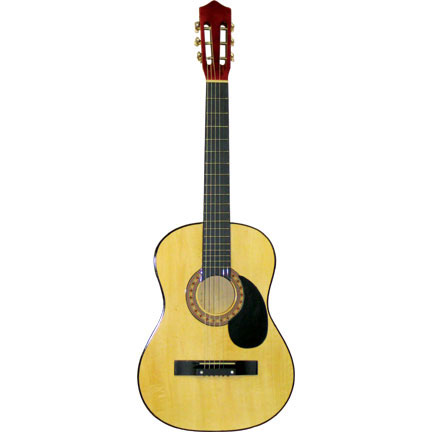guitar: (130, 1, 301, 432)
